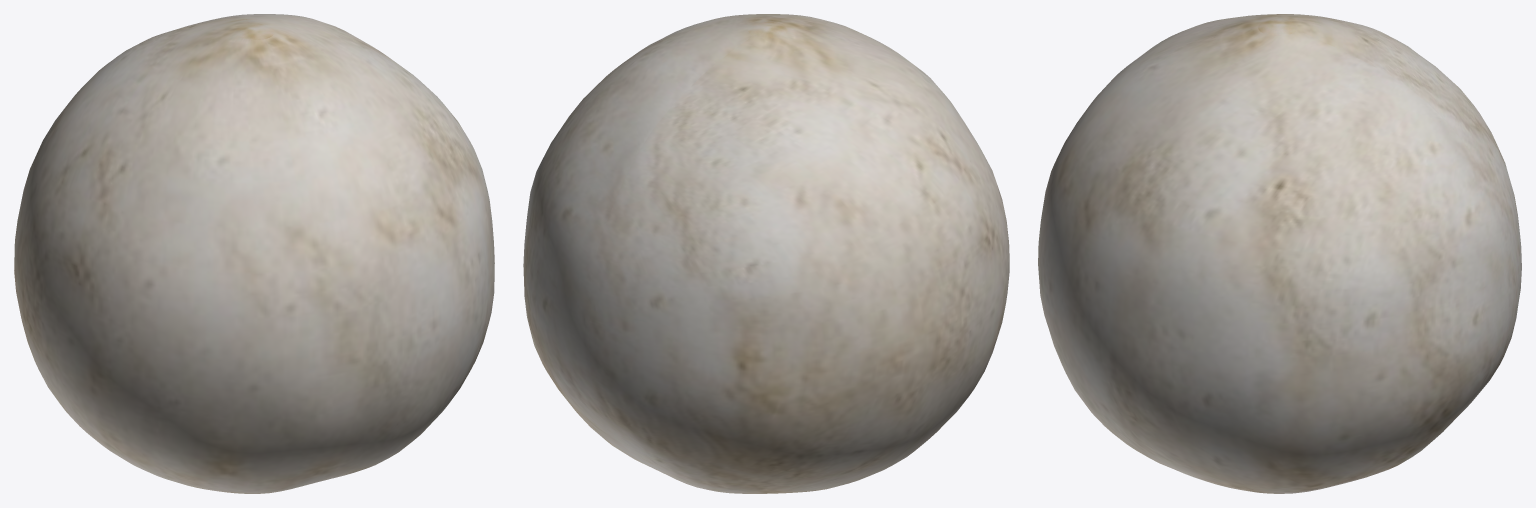
Rendered from pepper_white.fbx.
The picture shows the model from 3 angles, left to right: view 1: azimuth 30°, elevation 25°; view 2: azimuth 150°, elevation 25°; view 3: azimuth 270°, elevation 25°; orthographic projection.
Visible parts, largest first — view 1: PepperWhite; view 2: PepperWhite; view 3: PepperWhite.
Part boxes in pixels (x1,y1,x2,y2): PepperWhite: (14,14,494,493); PepperWhite: (523,14,1009,493); PepperWhite: (1038,14,1521,493).
Size of what is drawn, in the model's own units: 0.4393 by 0.4393 by 0.432.
